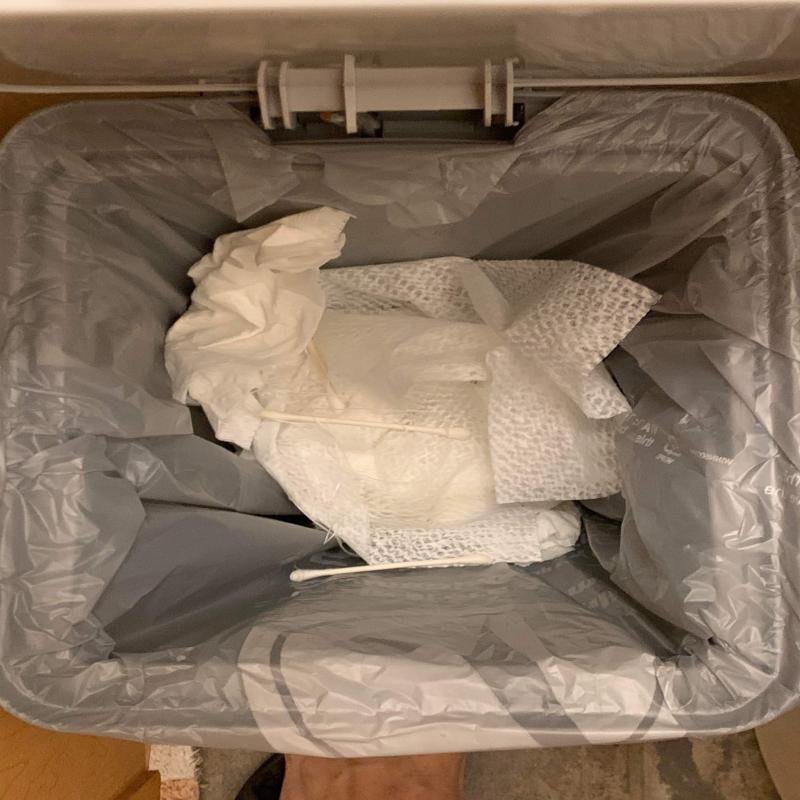paper: (253, 258, 660, 571), (164, 207, 352, 450)
